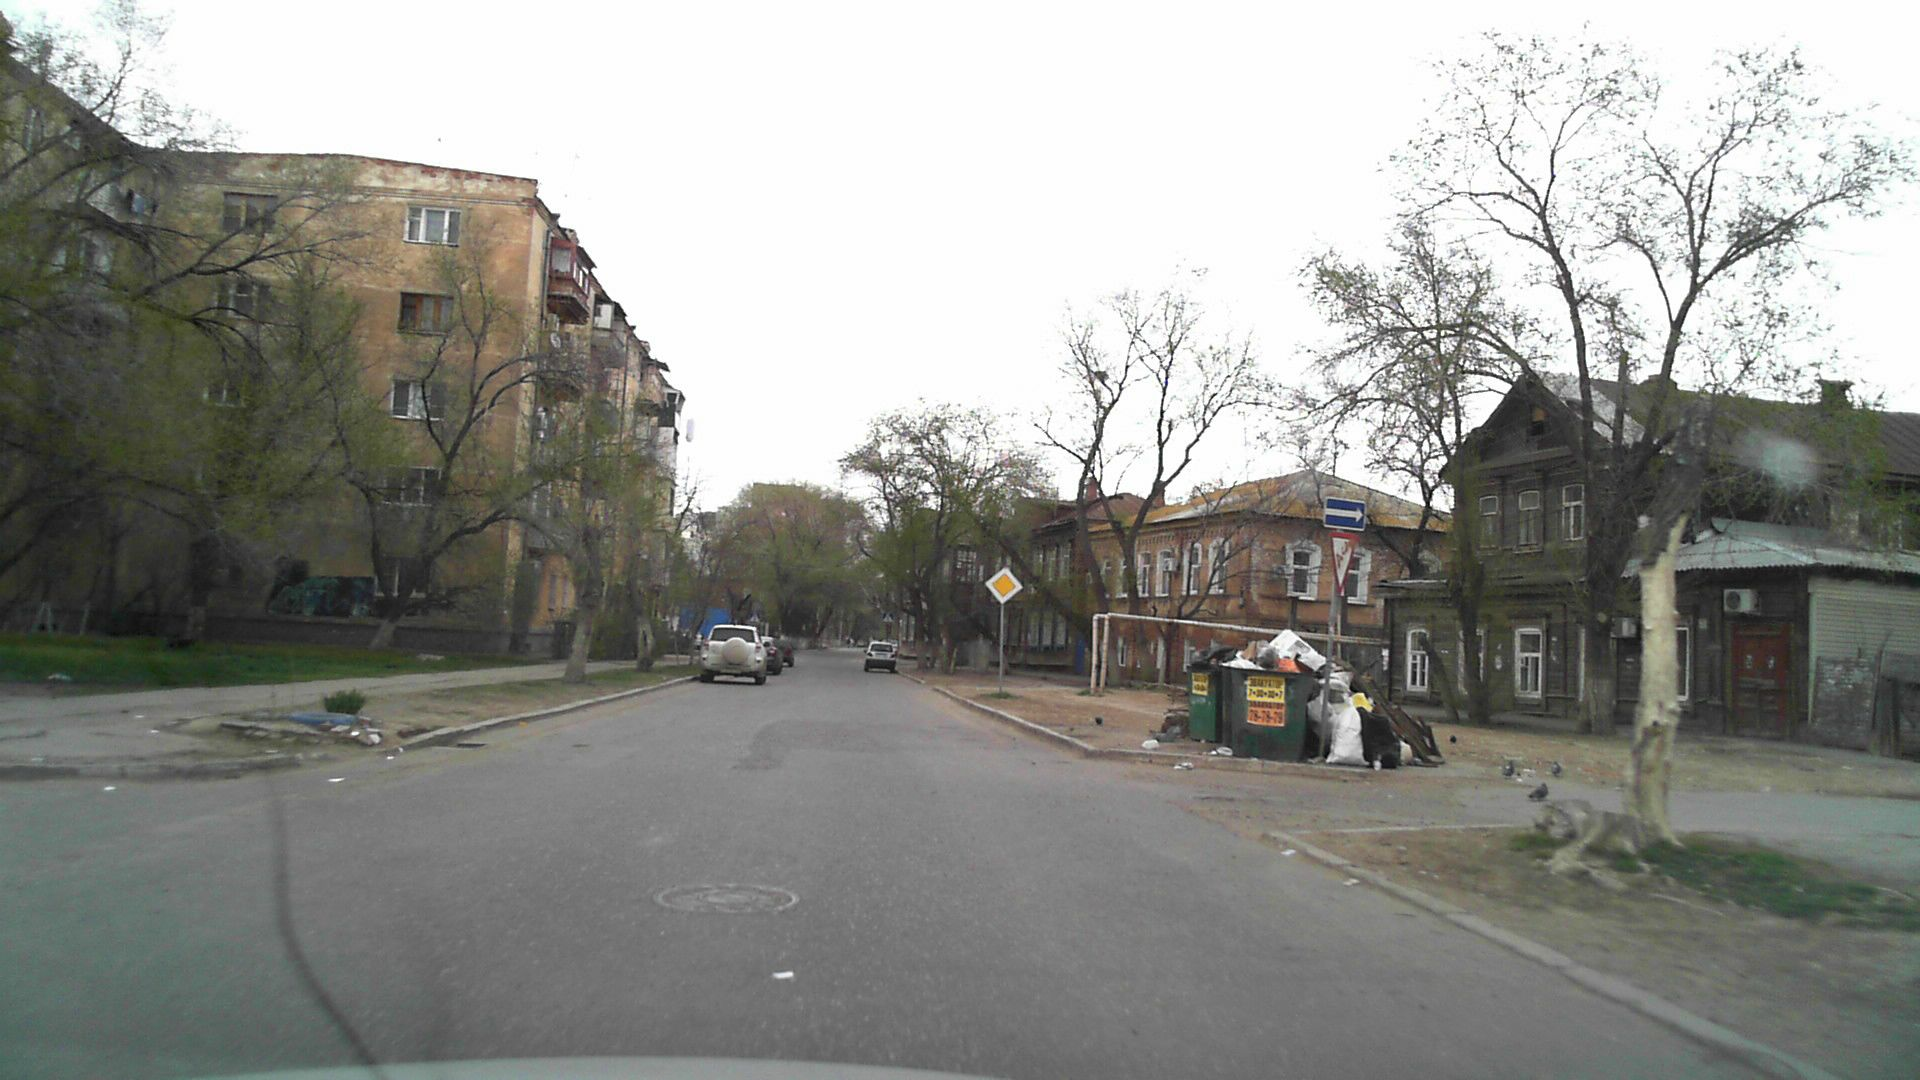One-Way Traffic: (1324, 497, 1365, 530)
